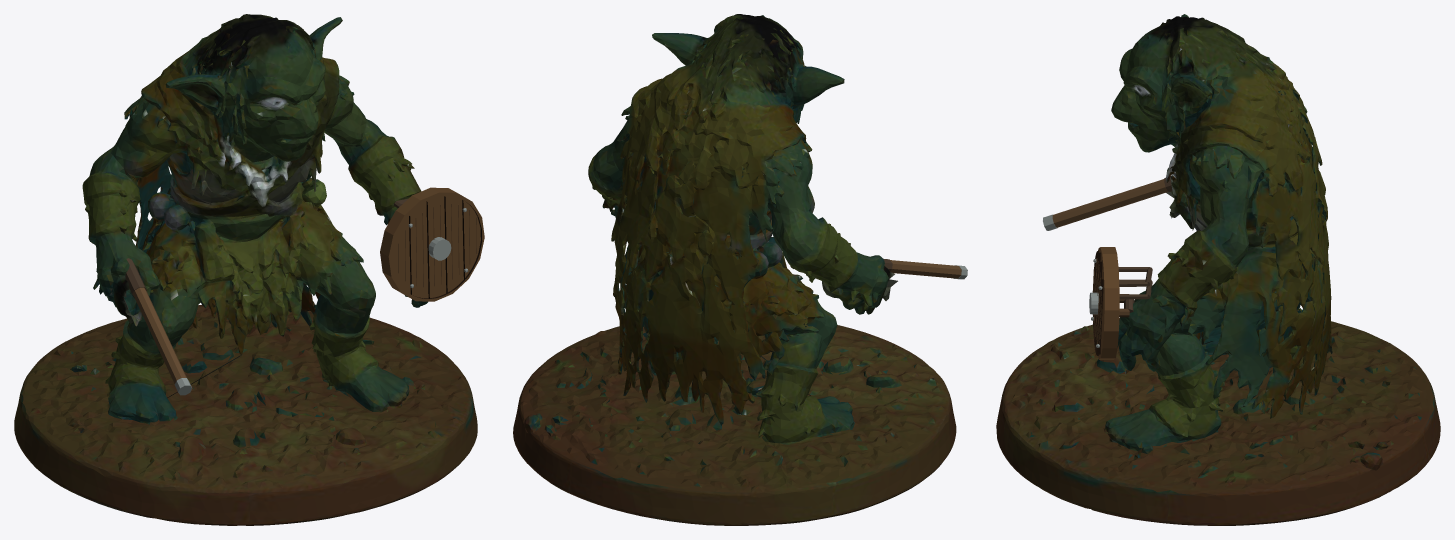
Rendered from goblinCombatente_bordao_com_escudo.glb.
3 renders of one model, left to right at view 1: azimuth 30°, elevation 25°; view 2: azimuth 150°, elevation 25°; view 3: azimuth 270°, elevation 25°, orthographic. The views are drawn at different scales.
Parts seen in each view (by area): view 1: goblinCombatente_bordao_com_escudo; view 2: goblinCombatente_bordao_com_escudo; view 3: goblinCombatente_bordao_com_escudo.
Part boxes in pixels (x1,y1,x2,y2): goblinCombatente_bordao_com_escudo: [14, 14, 484, 525]; goblinCombatente_bordao_com_escudo: [513, 14, 967, 525]; goblinCombatente_bordao_com_escudo: [996, 14, 1440, 525].
Bounding box in the file's own units: 1.94 × 1.96 × 1.91.
14 materials, 6 textured.
